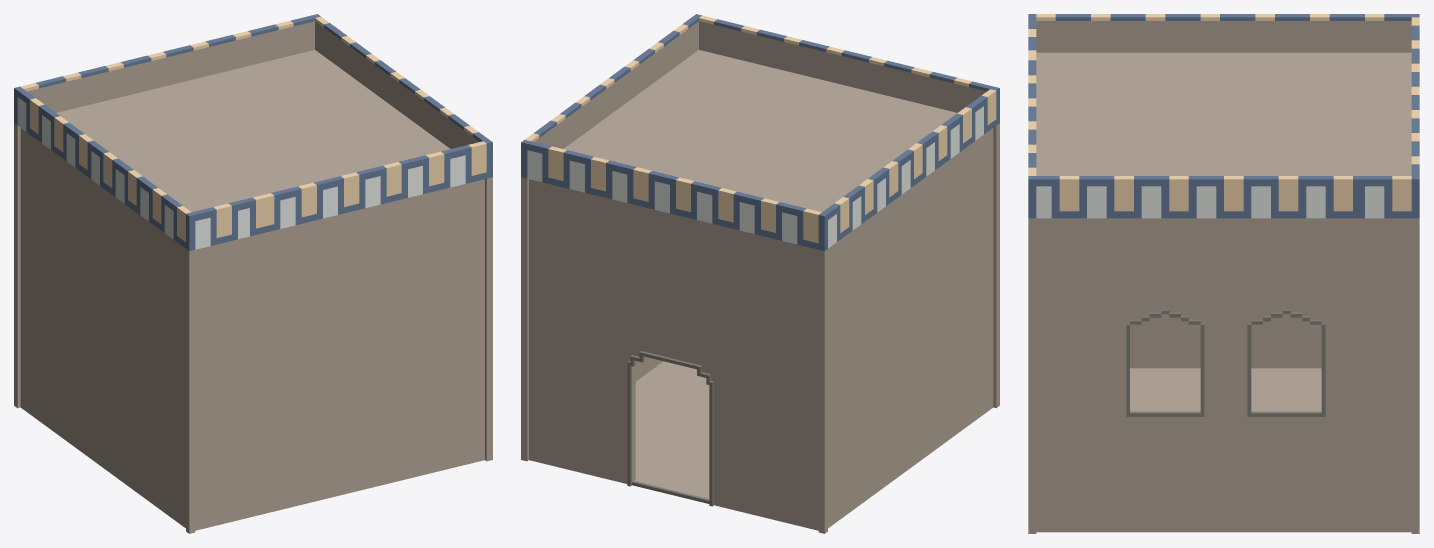
File: GameJam-House1.obj
The picture shows the model from 3 angles, left to right: view 1: azimuth 30°, elevation 25°; view 2: azimuth 150°, elevation 25°; view 3: azimuth 270°, elevation 25°; orthographic projection. The views are drawn at different scales.
Bounding box in the file's own units: 10 × 10 × 10.
1 material, 1 textured.
